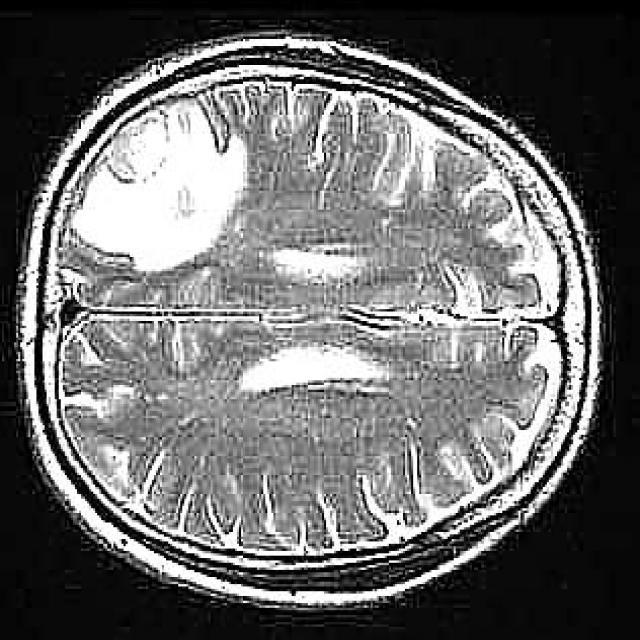tumor: (71, 95, 249, 277)
